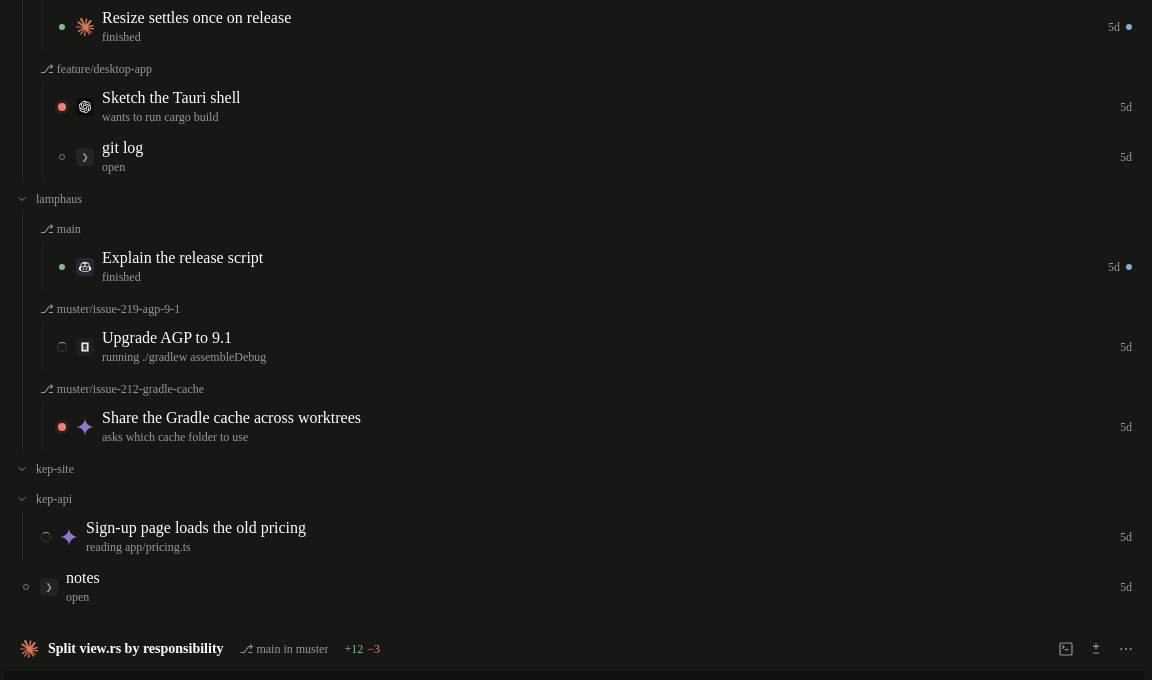
Test: ARC-33 spaces in the window › notes a free terminal's lack of a project
(page scrolled)
Click the list item with aria-label "Shell: notes". click: point(83, 578)
box: 8,563 -> 1144,611
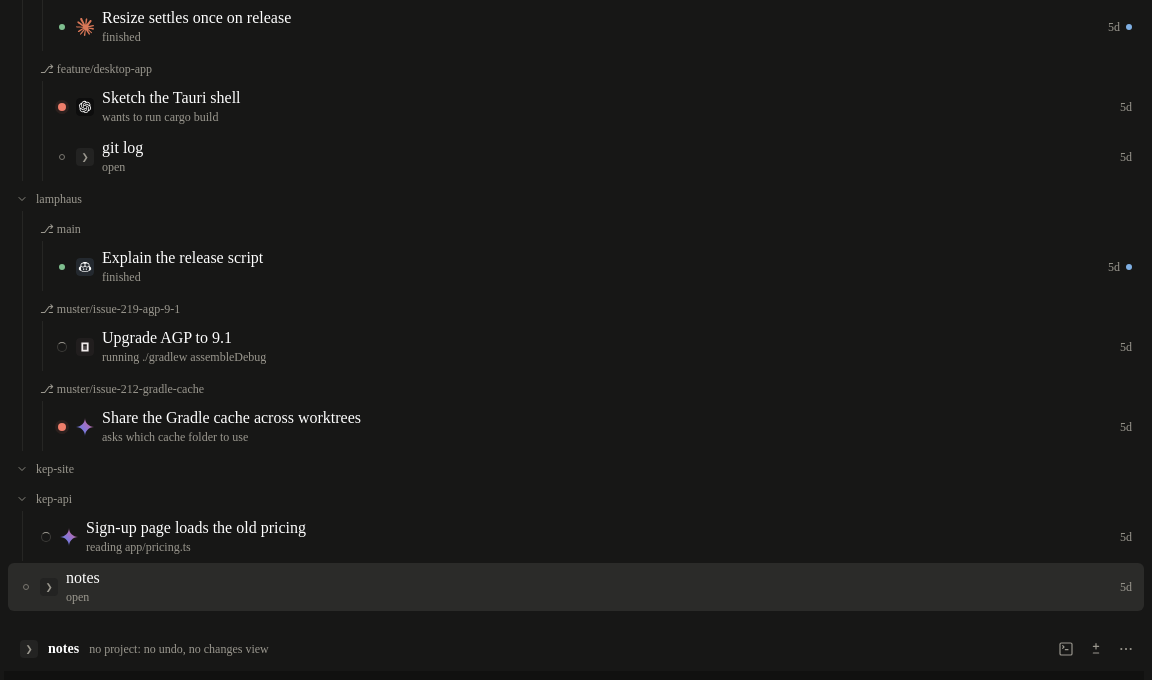
Check: the text "no project: no undo, no changes view" is shown, box 89,641 -> 269,657
